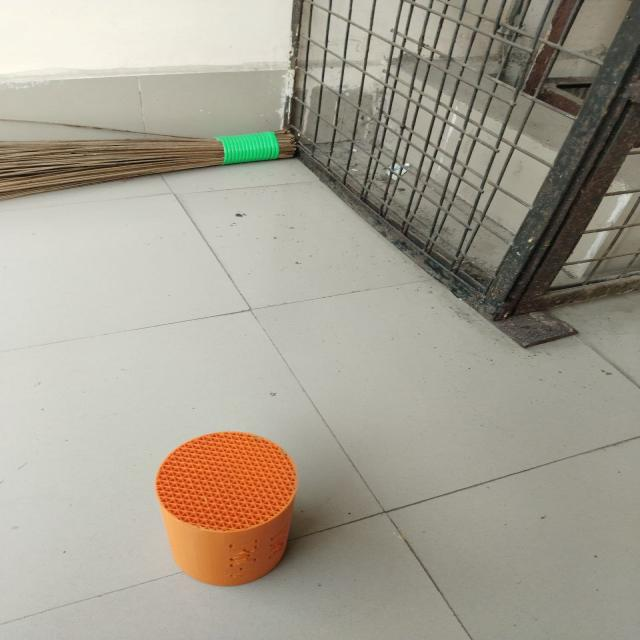Cylinder: (154, 430, 299, 586)
